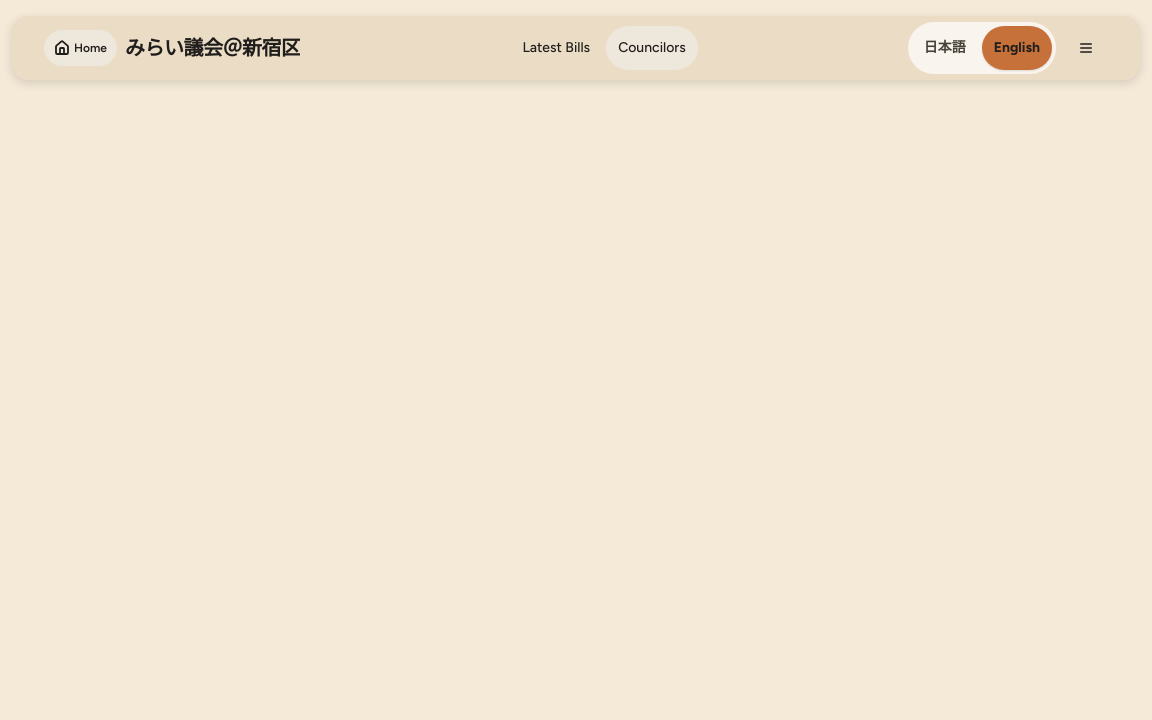
HeaderClient › メニューの全国のみらい議会マップ › en 表示で、メニューの外部リンクが設定先を新しいタブで安全に開く
Click the button named "Open menu": (1086, 48) [1064,26,1108,70]
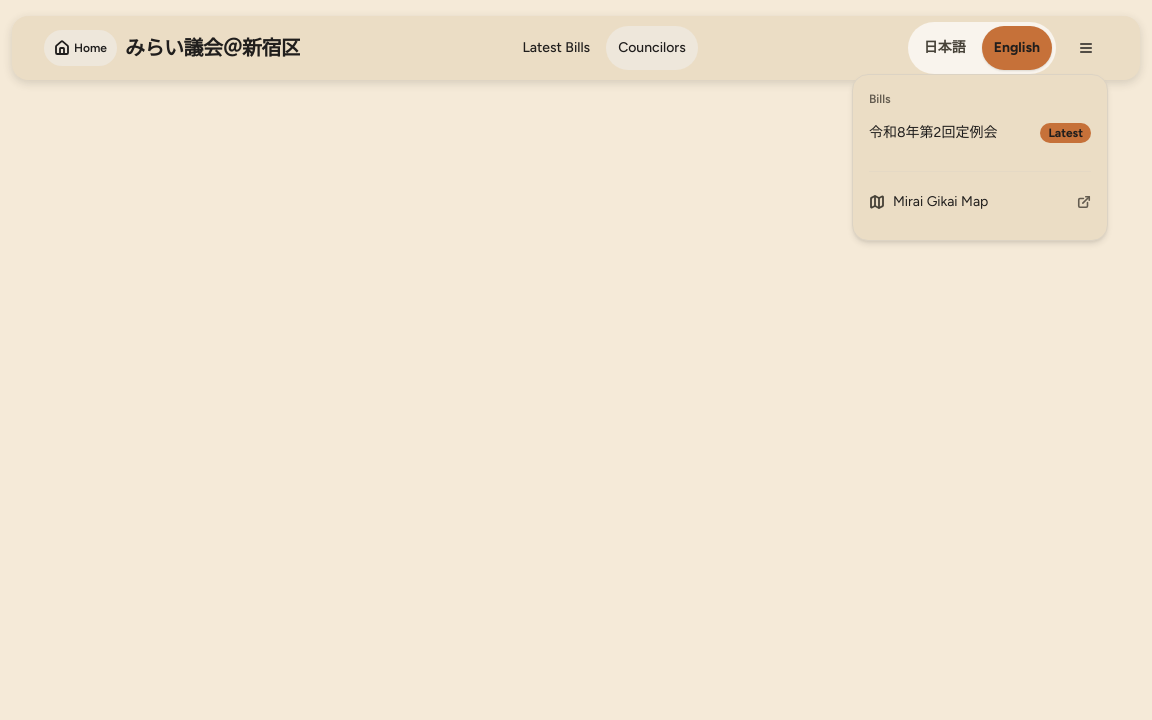
Expected: the link with aria-label "Nationwide Mirai Gikai Map (opens in a new tab)" reads "Mirai Gikai Map", [869,193,1091,210]
